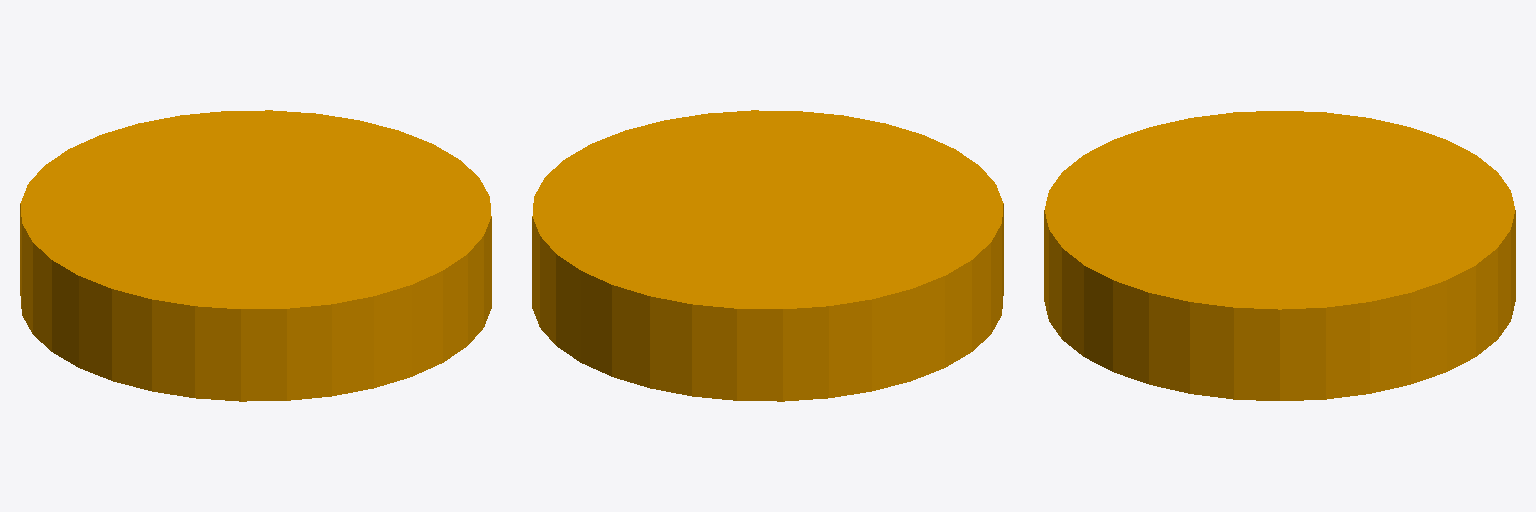
URDF robot description (miranda_underact_2v2_cylinder_large):
<?xml version="1.0" ?>
<robot name="miranda_underact_2v2_cylinder_large">

    <link name="miranda_underact_2v2_cylinder_large">
        <visual>
            <origin rpy="1.5707963267948966 0 0" xyz="0 0 0"/>
            <geometry>
                <mesh filename="obj_files/miranda_underact_2v2_cylinder_large.obj" scale="1 1 1"/>
            </geometry>
        </visual>
        <collision>
            <geometry>
                <mesh filename="obj_files/miranda_underact_2v2_cylinder_large_collision.obj" scale="1 1 1"/>
            </geometry>
        </collision>
    </link>

</robot>

--- Facts derived from the render (not from the file) ---
Views: 3 orthographic renders of the robot side by side, from view 1: azimuth 30°, elevation 25°; view 2: azimuth 150°, elevation 25°; view 3: azimuth 270°, elevation 25°.
Robot: miranda_underact_2v2_cylinder_large — 1 links, 0 joints (none); root link miranda_underact_2v2_cylinder_large; default pose: every joint at zero.
Visible links, largest first — view 1: miranda_underact_2v2_cylinder_large; view 2: miranda_underact_2v2_cylinder_large; view 3: miranda_underact_2v2_cylinder_large.
Boxes of the visible links, x1,y1,x2,y2 form: miranda_underact_2v2_cylinder_large: [20, 110, 491, 401]; miranda_underact_2v2_cylinder_large: [532, 110, 1003, 401]; miranda_underact_2v2_cylinder_large: [1044, 111, 1515, 400].
Bounding box of the posed robot: 0.4459 × 0.4459 × 0.096 m (x, y, z).
Meshes: 1 distinct files referenced, 1 mesh visuals loaded (1 OBJ).
